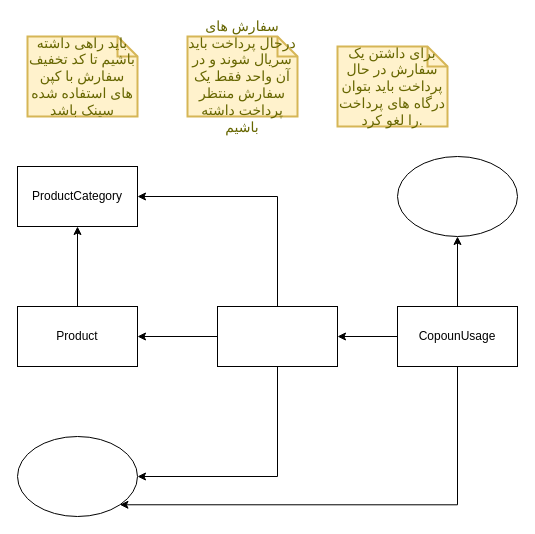
Image size: 535x534. Some labels were removed from this diagram. The shapes that lost their labels are listed below. From the top down, each one's centre as x and y in pixels, then its label:
At (457,196): "Order".
At (277,336): "Copoun".
At (77,476): "User".
